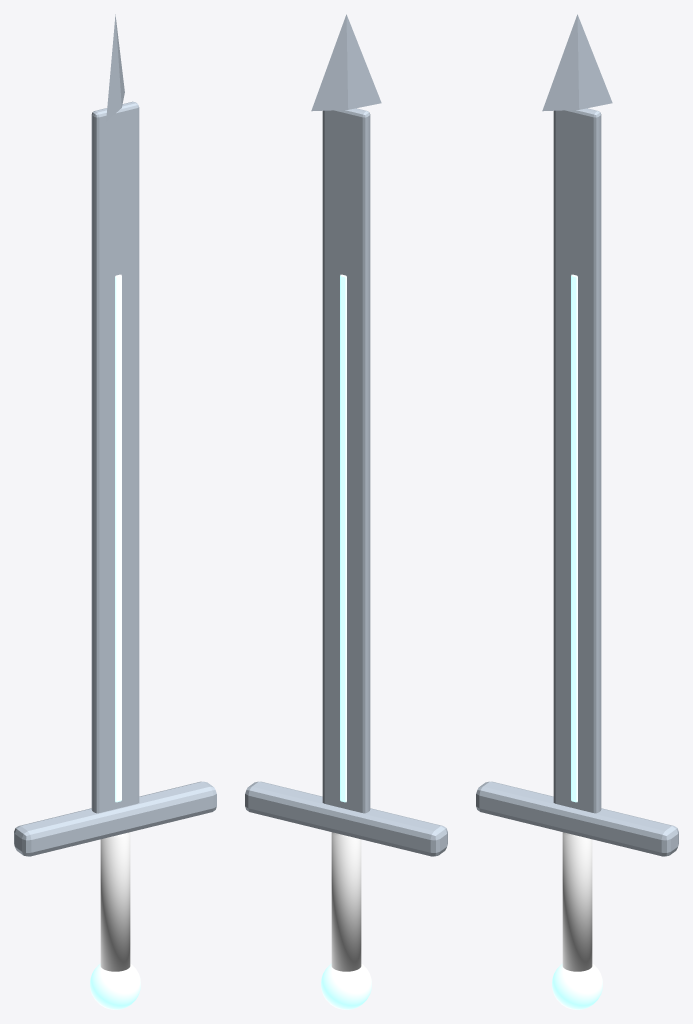
File: kilic_2.glb
3 renders of one model, left to right at view 1: azimuth 30°, elevation 25°; view 2: azimuth 150°, elevation 25°; view 3: azimuth 330°, elevation 25°, orthographic.
Parts seen in each view (by area): view 1: Cube, Cube.002, Cone.001, Cube.001, Sphere, Cone; view 2: Cube, Cube.002, Cone.001, Cube.001, Cone, Sphere; view 3: Cube, Cube.002, Cone.001, Cube.001, Cone, Sphere.
Part boxes in pixels (x1,y1,x2,y2): Cube: (91, 101, 139, 813); Cube.002: (14, 781, 216, 856); Cone.001: (100, 832, 130, 971); Cube.001: (115, 274, 121, 802); Sphere: (90, 963, 140, 1009); Cone: (106, 14, 124, 121); Cube: (322, 108, 370, 813); Cube.002: (245, 781, 447, 856); Cone.001: (331, 832, 361, 971); Cube.001: (340, 274, 346, 802); Cone: (311, 14, 381, 111); Sphere: (321, 963, 371, 1009); Cube: (553, 108, 601, 813); Cube.002: (476, 781, 678, 856); Cone.001: (562, 832, 592, 971); Cube.001: (571, 274, 577, 802); Cone: (542, 14, 612, 111); Sphere: (552, 963, 602, 1009).
Size of the model in its own units: 0.48 by 2.35 by 0.1105.
